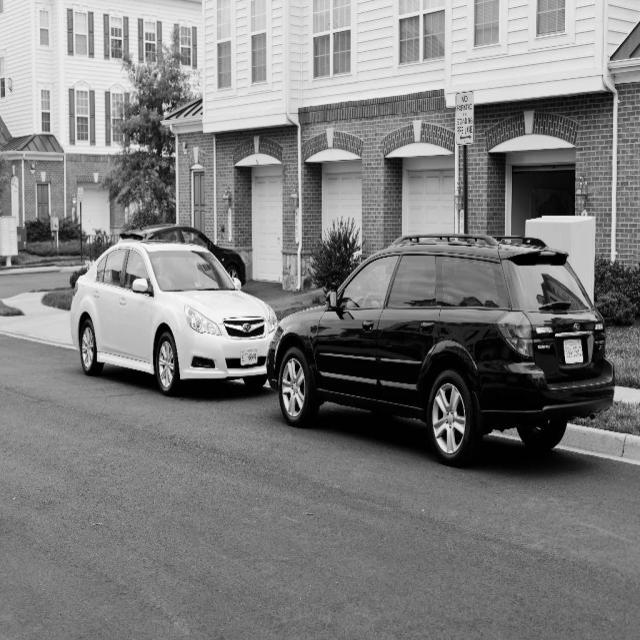car: (264, 228, 608, 473)
